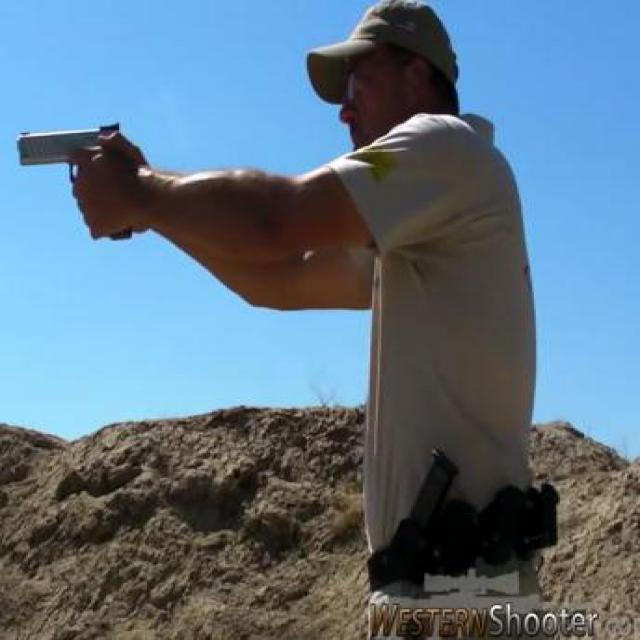gun: (13, 120, 138, 241)
